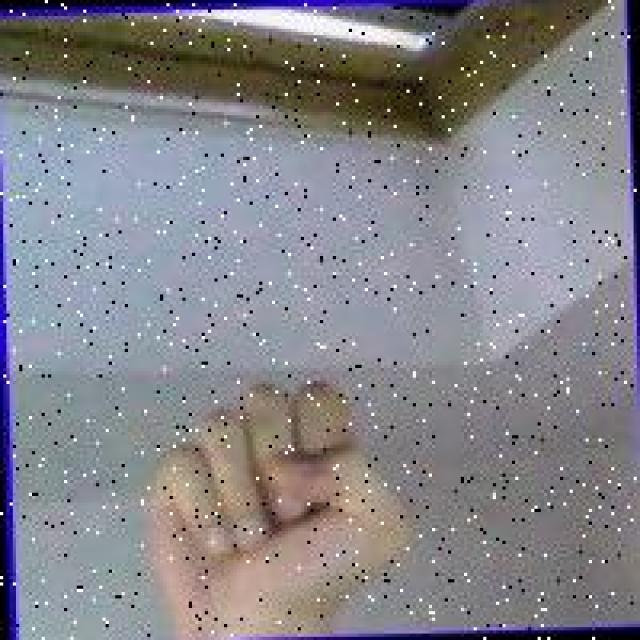S: (136, 366, 418, 638)
